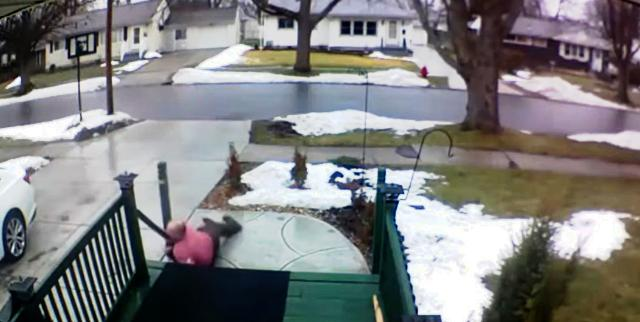jatuh: (157, 202, 245, 274)
